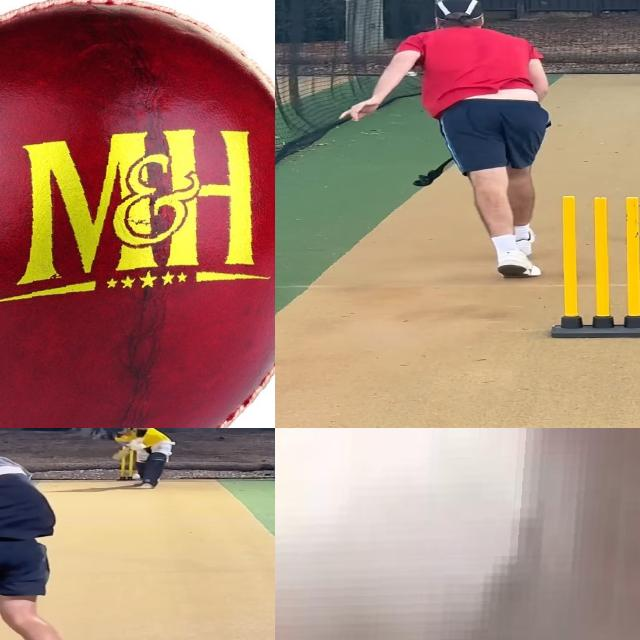Cricket ball: (0, 0, 275, 428), (275, 428, 638, 640), (132, 473, 142, 481)
Stumps: (549, 194, 640, 339)
